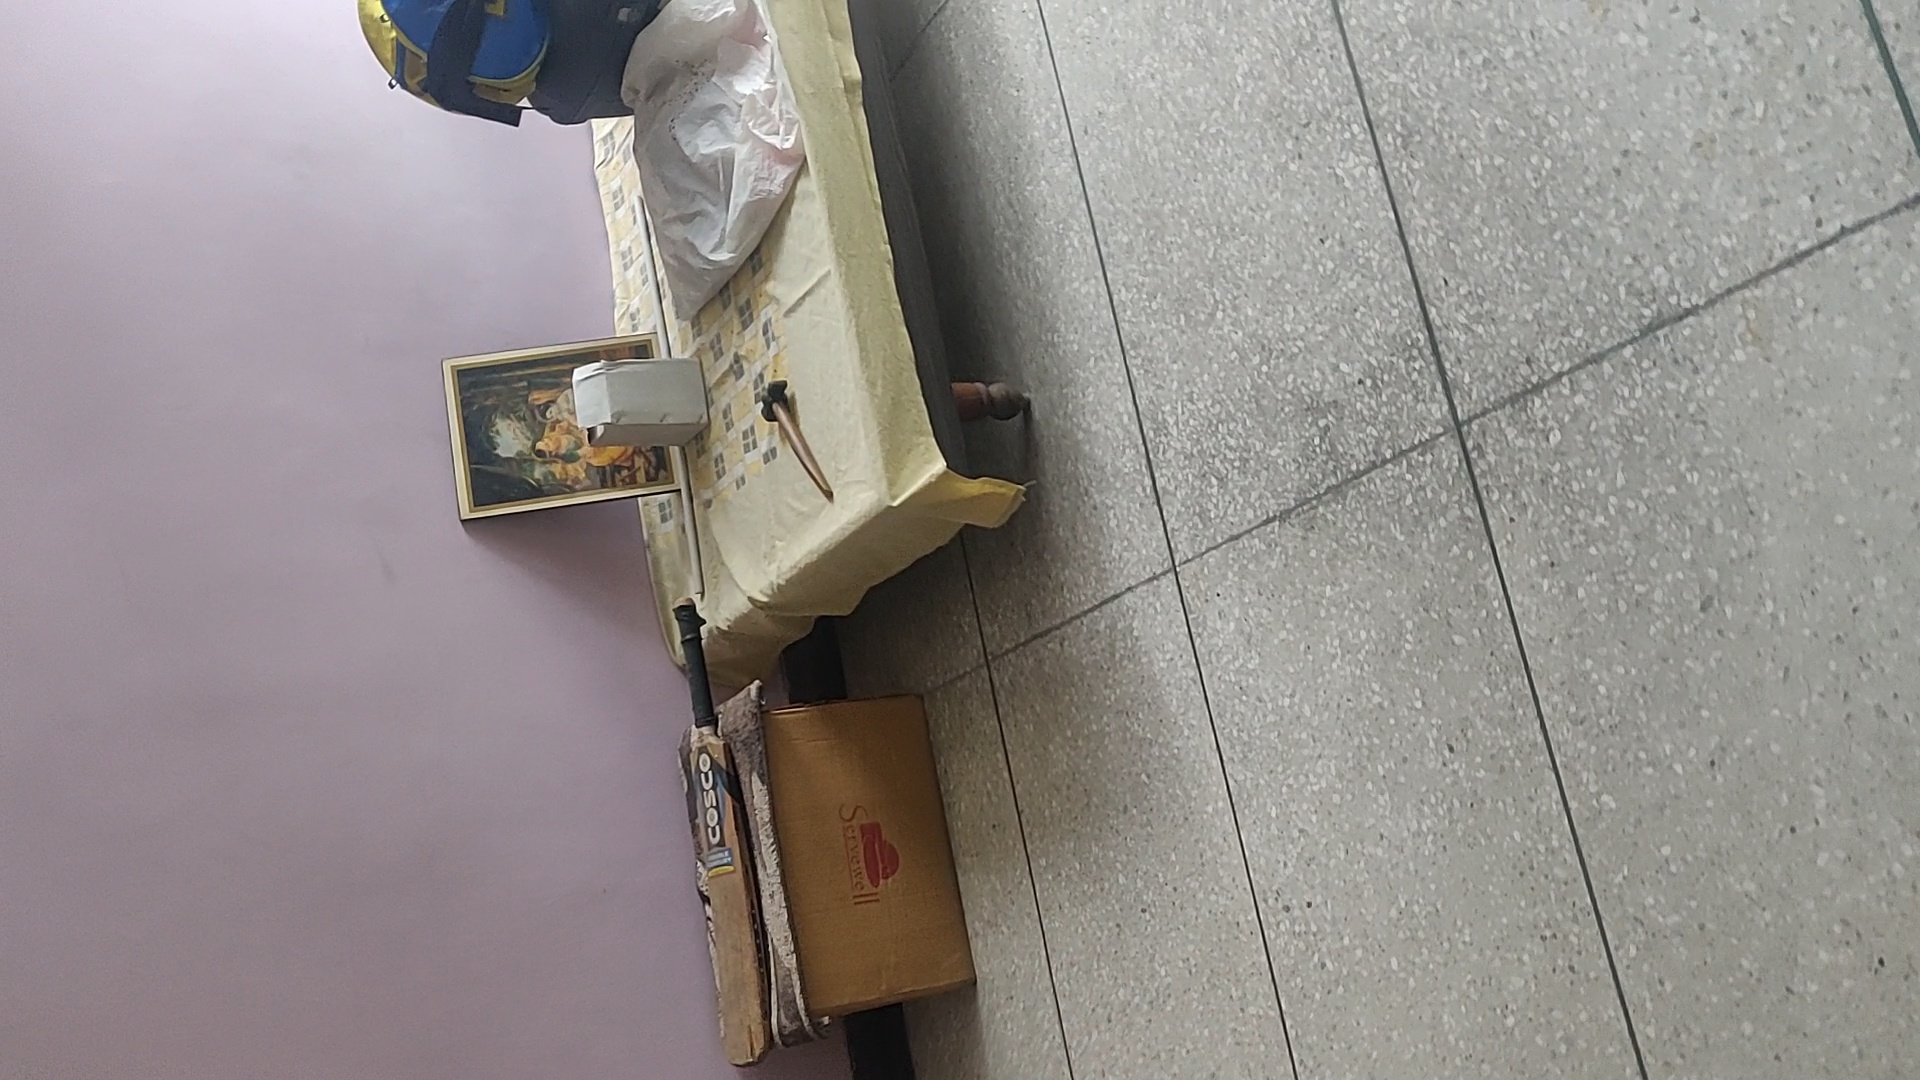hammer: (760, 378, 833, 504)
